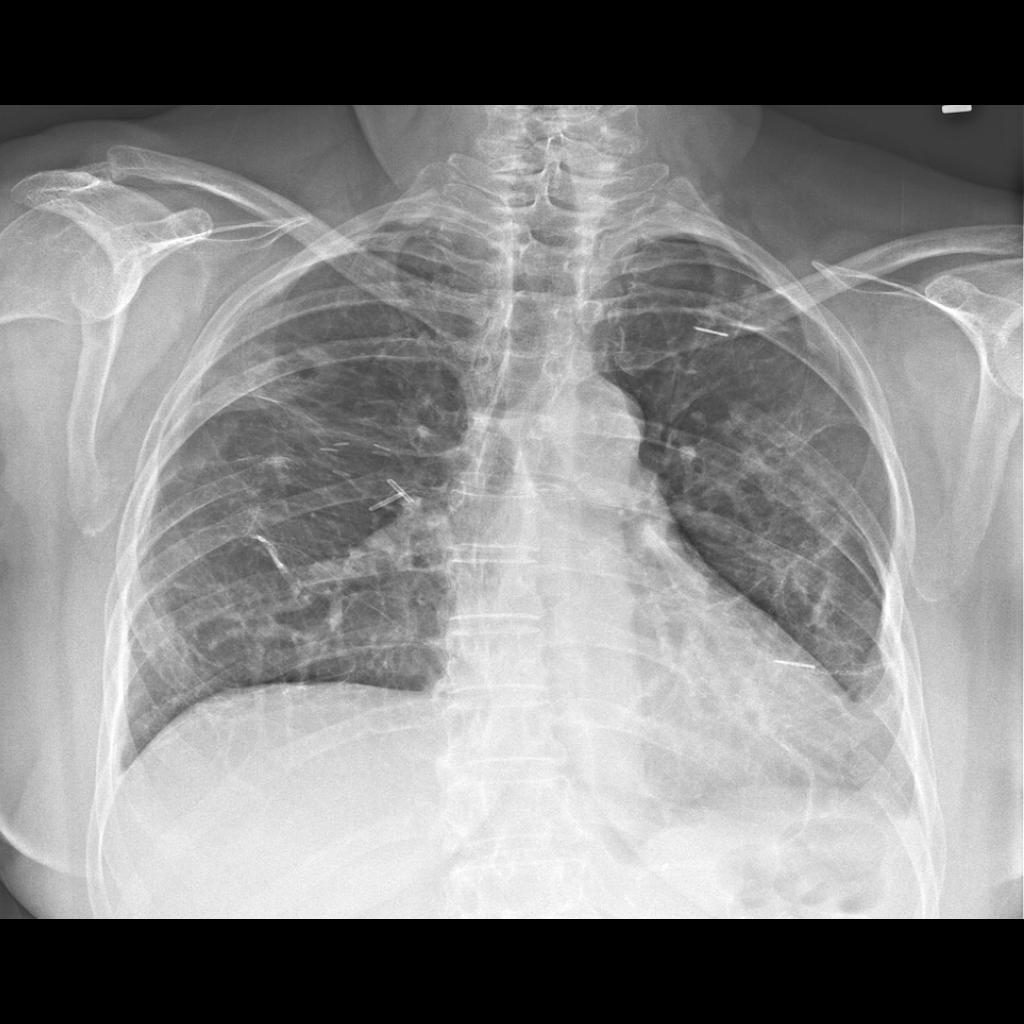Nodule: (236, 333, 345, 412), (260, 447, 297, 482)
